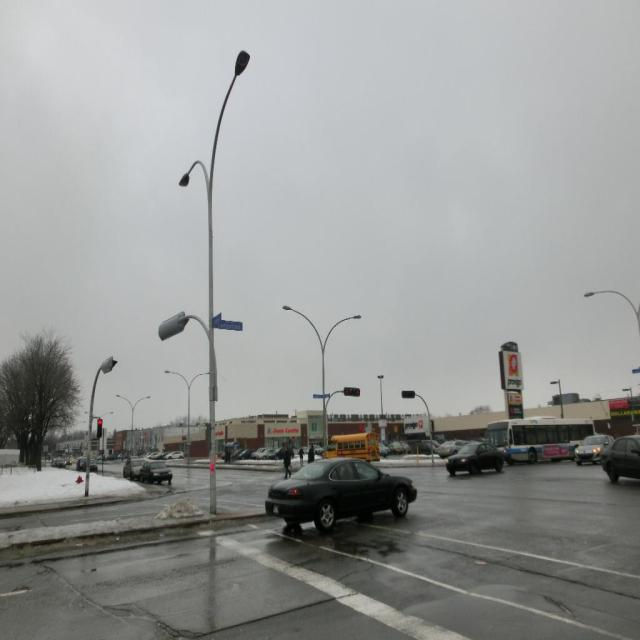car: (264, 455, 415, 529), (143, 457, 173, 482)
